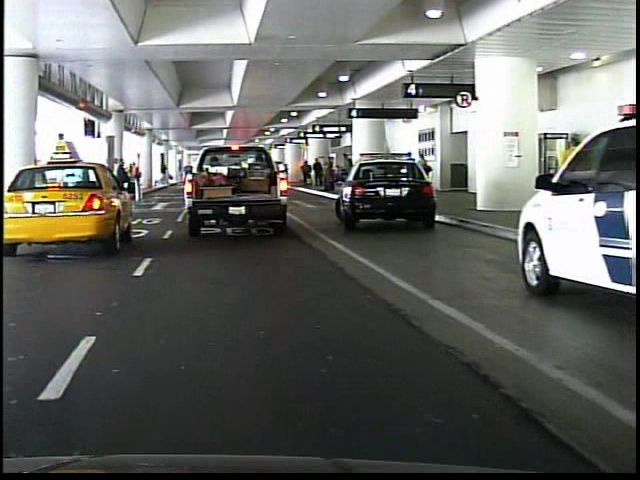person: (106, 155, 131, 219), (181, 150, 204, 203)
